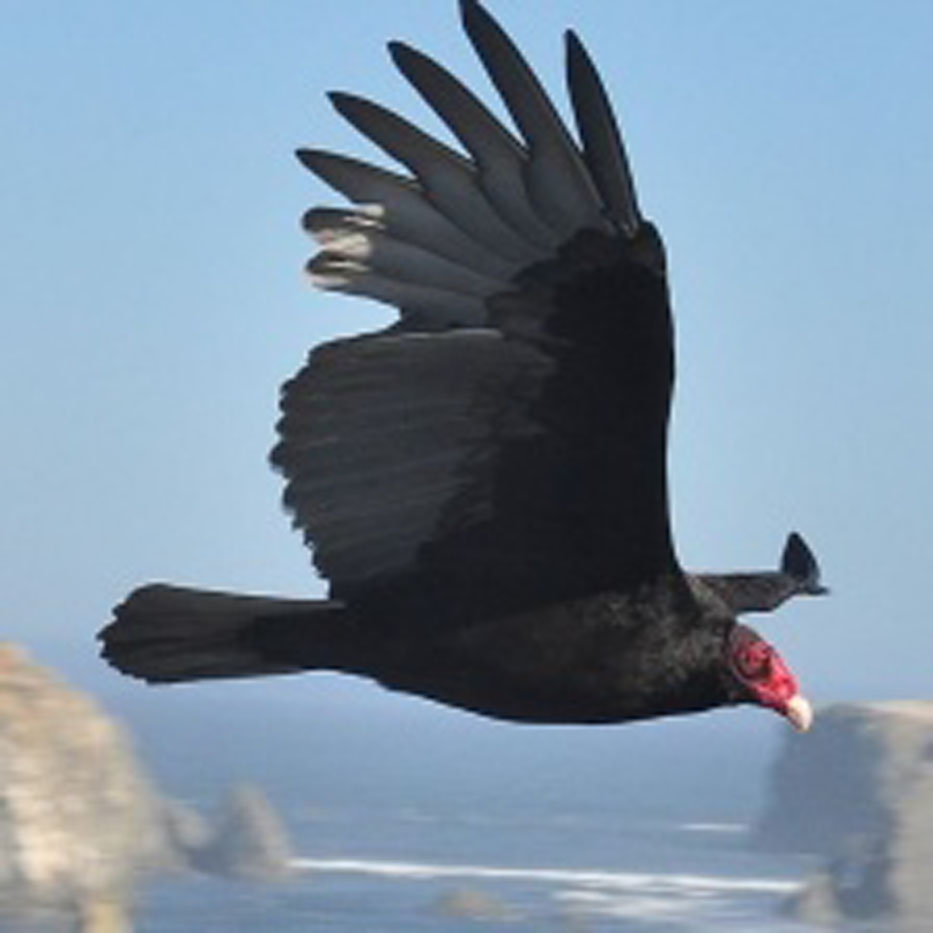Pengoyak Daging: (783, 691, 834, 758)
